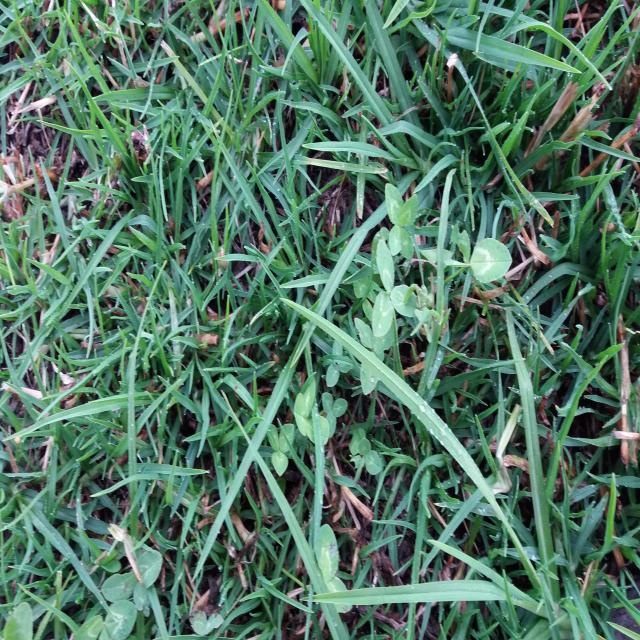Four Leaf Clover: (384, 183, 418, 260)
